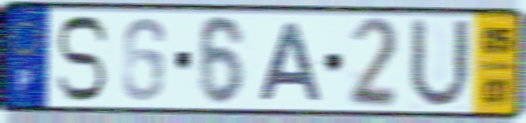2: (348, 14, 401, 111)
6: (195, 14, 252, 108), (119, 15, 167, 104)
A: (256, 21, 326, 104)
S: (52, 13, 112, 105)
U: (405, 15, 474, 113)
